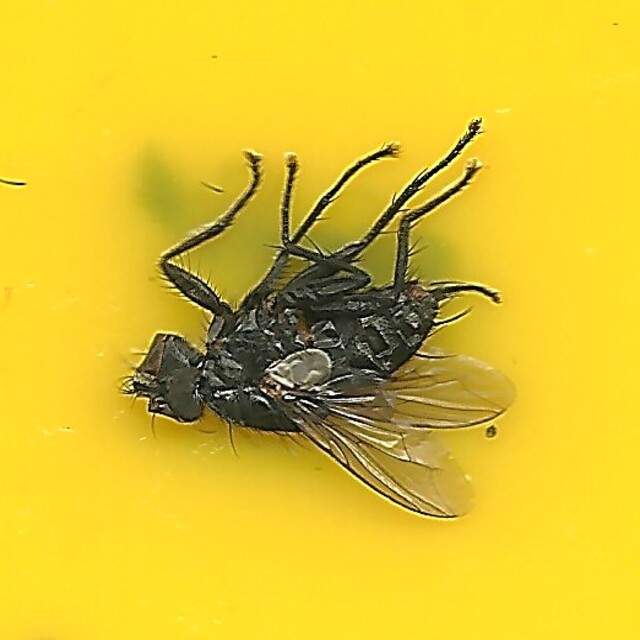Brachycera: (123, 119, 517, 521)
